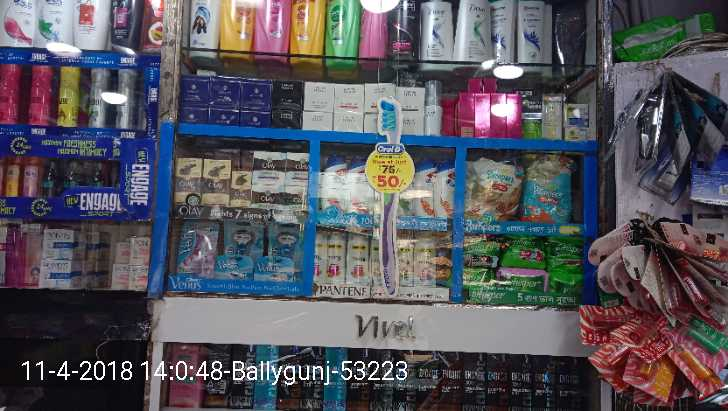venus: (176, 223, 214, 276), (226, 225, 264, 251), (255, 256, 295, 280), (216, 254, 253, 278), (269, 225, 300, 253)
